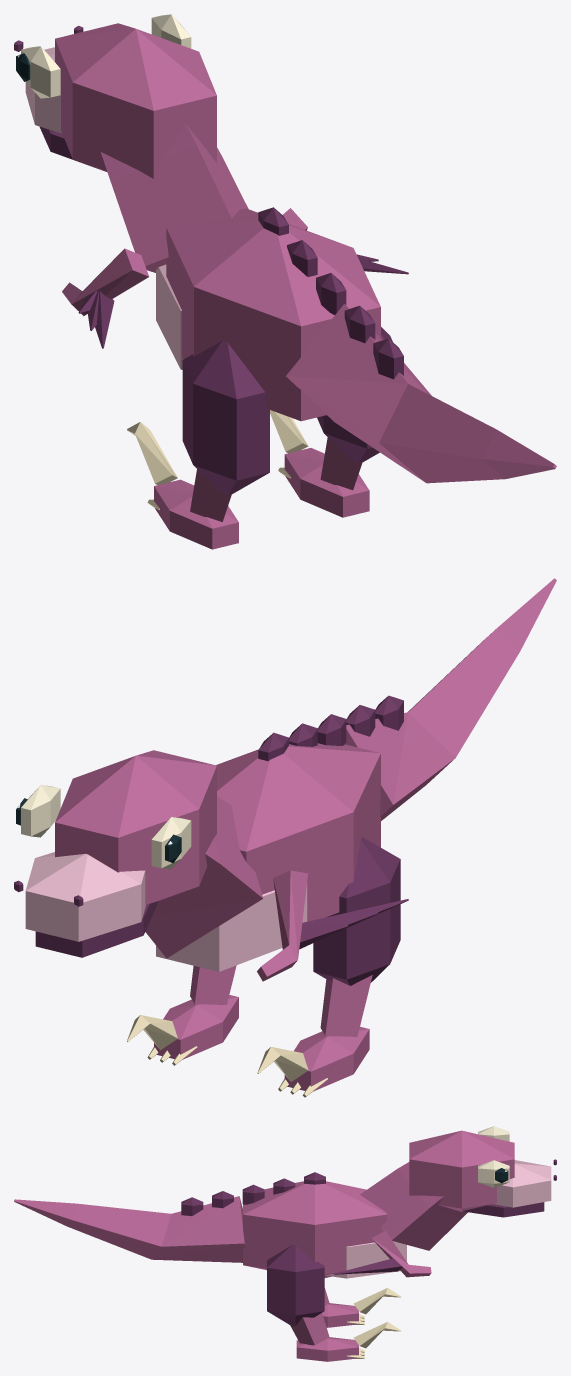
File: raptor.obj
The picture shows the model from 3 angles, top to bottom: view 1: azimuth 30°, elevation 25°; view 2: azimuth 150°, elevation 25°; view 3: azimuth 270°, elevation 25°; orthographic projection. The views are drawn at different scales.
Parts seen in each view (by area): view 1: raptor; view 2: raptor; view 3: raptor.
Boxes of the visible parts, left/top/right/bottom form: raptor: left=14, top=14, right=556, bottom=549; raptor: left=14, top=578, right=556, bottom=1097; raptor: left=14, top=1126, right=556, bottom=1361.
Bounding box in the file's own units: 3.2 × 3.97 × 9.17.
